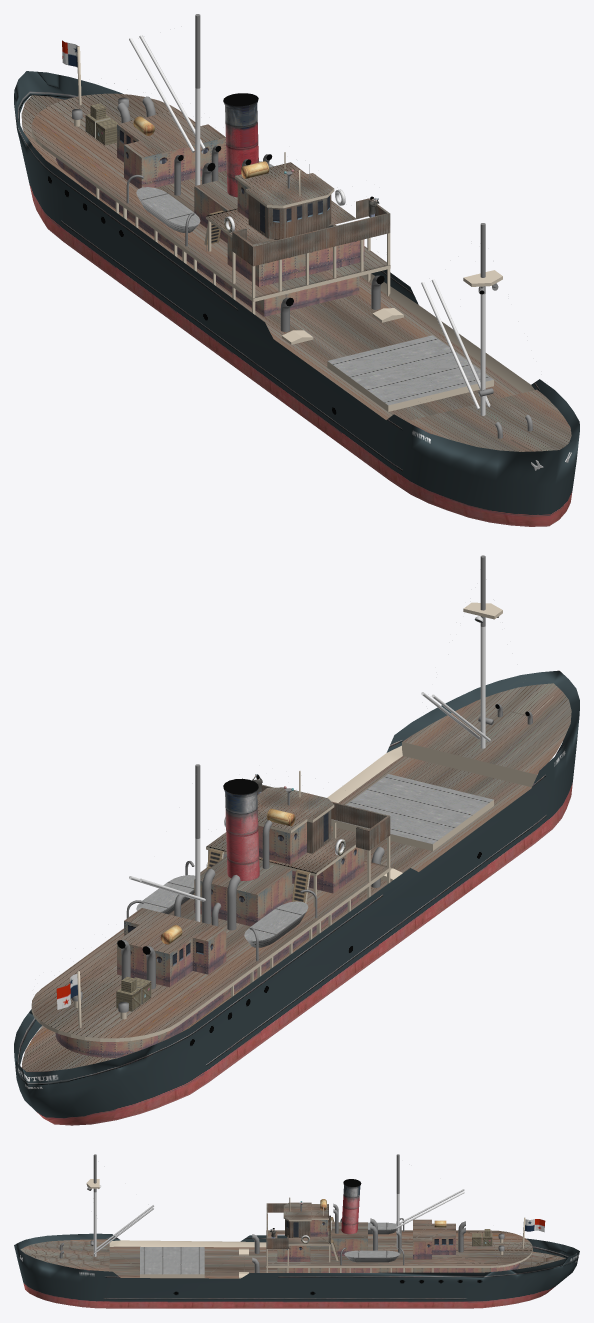
Rendered from tranp.glb.
3 views of the same model, one above another, from view 1: azimuth 30°, elevation 25°; view 2: azimuth 150°, elevation 25°; view 3: azimuth 270°, elevation 25° (orthographic). The views are drawn at different scales.
Visible parts, largest first — view 1: Hull; view 2: Hull; view 3: Hull.
Boxes of the visible parts, box(x1,y1,x2,y2) form: Hull: box(14, 14, 579, 526); Hull: box(14, 555, 579, 1125); Hull: box(14, 1154, 579, 1308).
Size of the model in its own units: 8.39 by 14.03 by 53.3.
Materials: 20 (6 with a texture image).
